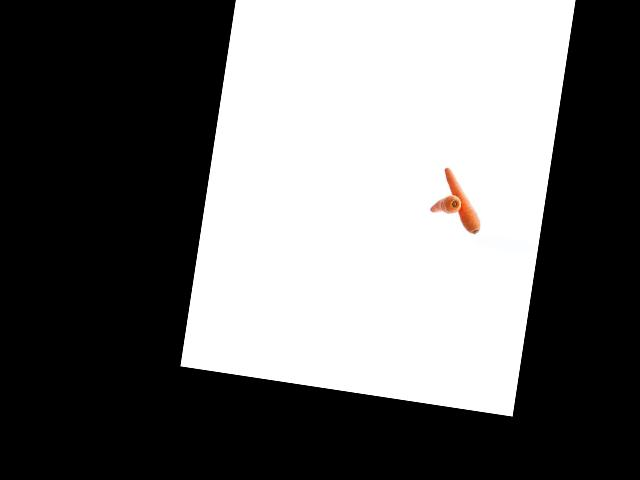carrot: (427, 191, 464, 220)
